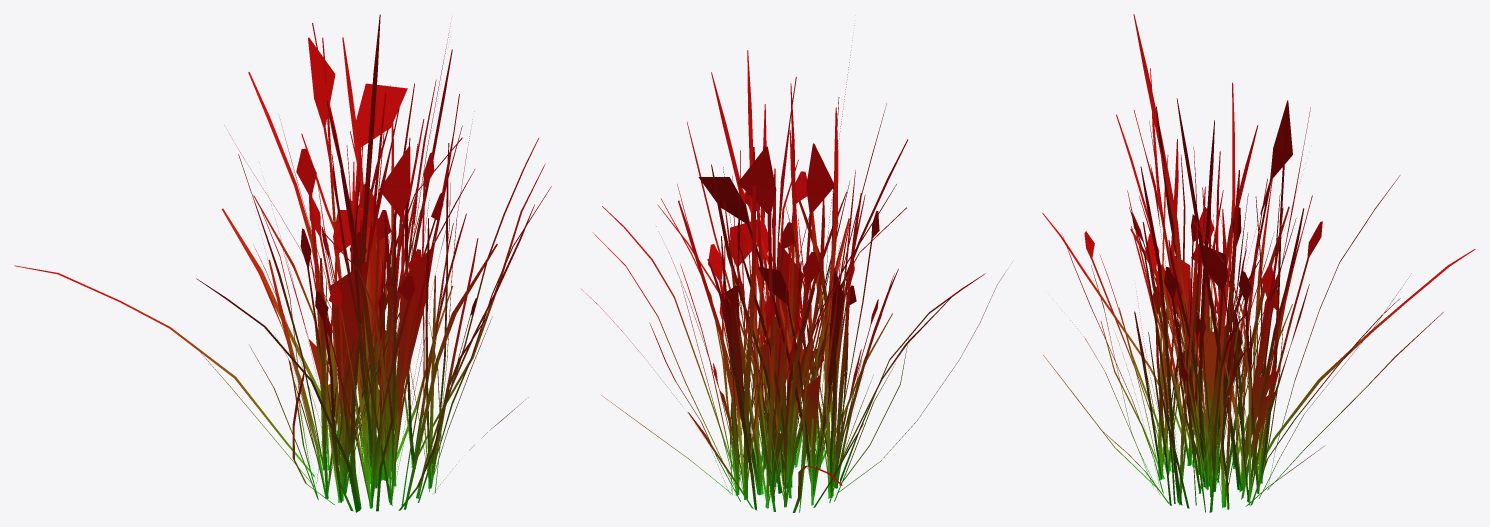
Rendered from ueyoebmia_Var8_LOD2.fbx.
3 renders of one model, left to right at view 1: azimuth 30°, elevation 25°; view 2: azimuth 150°, elevation 25°; view 3: azimuth 270°, elevation 25°, orthographic. The views are drawn at different scales.
Parts seen in each view (by area): view 1: _ceef_Var8_LOD2; view 2: _ceef_Var8_LOD2; view 3: _ceef_Var8_LOD2.
Part boxes in pixels (x1=…): _ceef_Var8_LOD2: x1=14, y1=14, x2=551, y2=512; _ceef_Var8_LOD2: x1=581, y1=25, x2=1007, y2=512; _ceef_Var8_LOD2: x1=1042, y1=14, x2=1475, y2=512.
Size of the model in its own units: 38.5 by 46.43 by 39.73.
